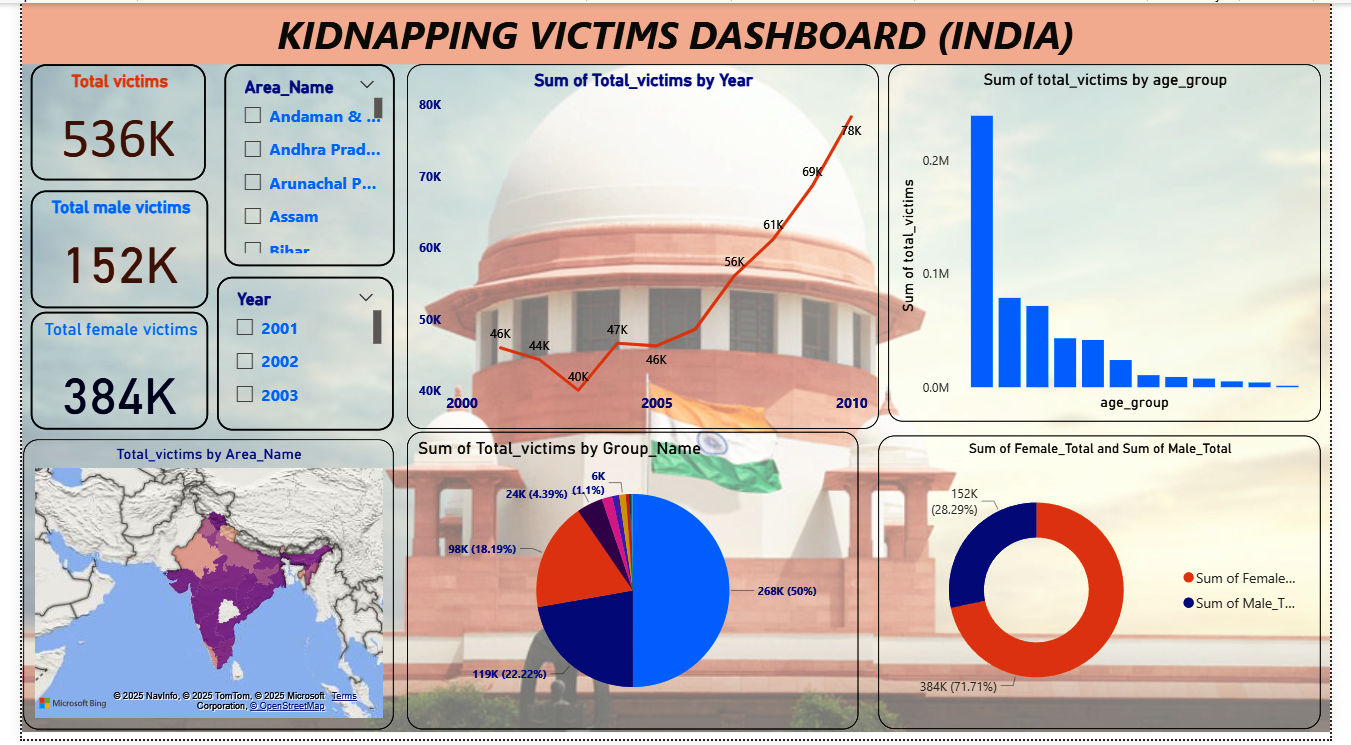

Layout of this report page (visuals, bound fields, positions):
{"tool":"powerbi","page":{"name":"Kidnaps ","canvas":[1280,720],"ordinal":2},"visuals":[{"type":"textbox","box":[0,0,1280,60],"z":0},{"type":"card","title":"Total victims ","fields":{"Values":["Sum(crimes_india kidnapping.Total_victims)"]},"box":[8.8,60,171.2,113.8],"z":1000},{"type":"card","title":"Total male victims ","fields":{"Values":["Sum(crimes_india kidnapping.Male_Total)"]},"box":[8.8,183.8,173.8,115],"z":2000},{"type":"card","title":"Total female victims ","fields":{"Values":["Sum(crimes_india kidnapping.Female_Total)"]},"box":[8.8,302.5,173.8,115],"z":3000},{"type":"slicer","fields":{"Values":["crimes_india kidnapping.Area_Name"]},"box":[197.5,60,166.2,197.5],"z":4000},{"type":"lineChart","fields":{"Y":["Sum(crimes_india kidnapping.Total_victims)"],"Category":["crimes_india kidnapping.Year"]},"box":[377.1,60,461.4,357.1],"z":5000},{"type":"filledMap","title":"Total_victims by Area_Name","fields":{"Category":["crimes_india kidnapping.Area_Name"]},"box":[1.2,426.2,362.5,283.8],"z":6000},{"type":"slicer","fields":{"Values":["crimes_india kidnapping.Year"]},"box":[191.2,267.5,172.5,150],"z":7000},{"type":"pieChart","fields":{"Y":["Sum(crimes_india kidnapping.Total_victims)"],"Category":["crimes_india kidnapping.Group_Name"]},"box":[376.6,419.4,441.4,291],"z":8000},{"type":"columnChart","fields":{"Y":["Sum(crimes_india affected_female_male.total_victims)"],"Category":["crimes_india affected_female_male.age_group"]},"box":[847.4,59.9,423.1,349.7],"z":9000},{"type":"donutChart","fields":{"Y":["Sum(crimes_india kidnapping.Female_Total)","Sum(crimes_india kidnapping.Male_Total)"]},"box":[837.6,423.1,432.9,287.4],"z":9001}]}

Visuals, with their boxes in screenshot pixels (x1, y1, x2, y2), scaled from the page's 1280x720 canvas onto the 1351x745 screenshot:
textbox: left=0, top=0, right=1350, bottom=62
"Total victims " card: left=9, top=62, right=190, bottom=180
"Total male victims " card: left=9, top=190, right=193, bottom=309
"Total female victims " card: left=9, top=313, right=193, bottom=432
slicer - crimes_india kidnapping.Area_Name: left=208, top=62, right=384, bottom=266
lineChart - Sum(crimes_india kidnapping.Total_victims) x crimes_india kidnapping.Year: left=398, top=62, right=885, bottom=432
"Total_victims by Area_Name" filledMap: left=1, top=441, right=384, bottom=735
slicer - crimes_india kidnapping.Year: left=202, top=277, right=384, bottom=432
pieChart - Sum(crimes_india kidnapping.Total_victims) x crimes_india kidnapping.Group_Name: left=397, top=434, right=863, bottom=735
columnChart - Sum(crimes_india affected_female_male.total_victims) x crimes_india affected_female_male.age_group: left=894, top=62, right=1341, bottom=424
donutChart - Sum(crimes_india kidnapping.Female_Total) x Sum(crimes_india kidnapping.Male_Total): left=884, top=438, right=1341, bottom=735
